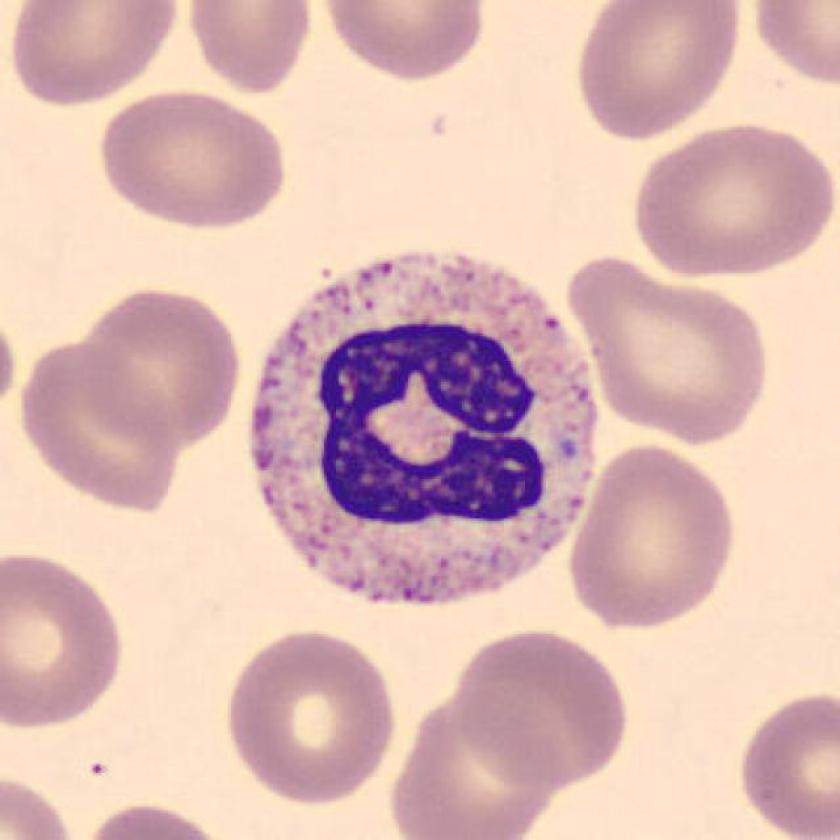neutrophil: (252, 257, 598, 602)
